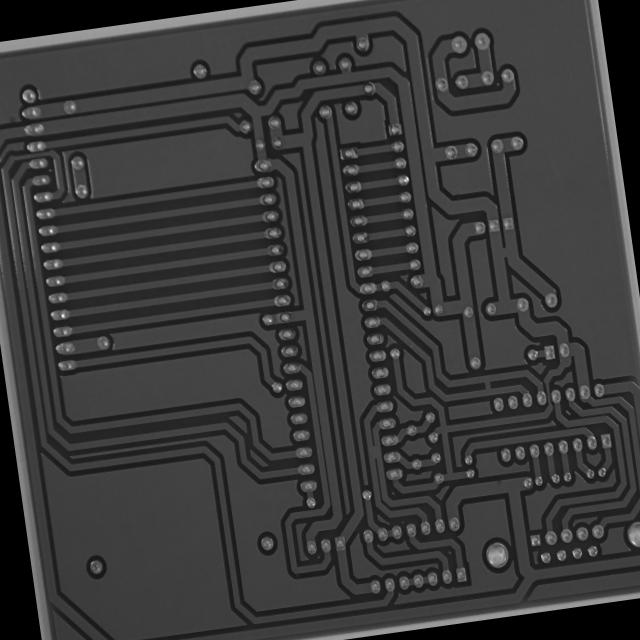short: (489, 240, 522, 267), (476, 371, 500, 398), (364, 440, 384, 464)
